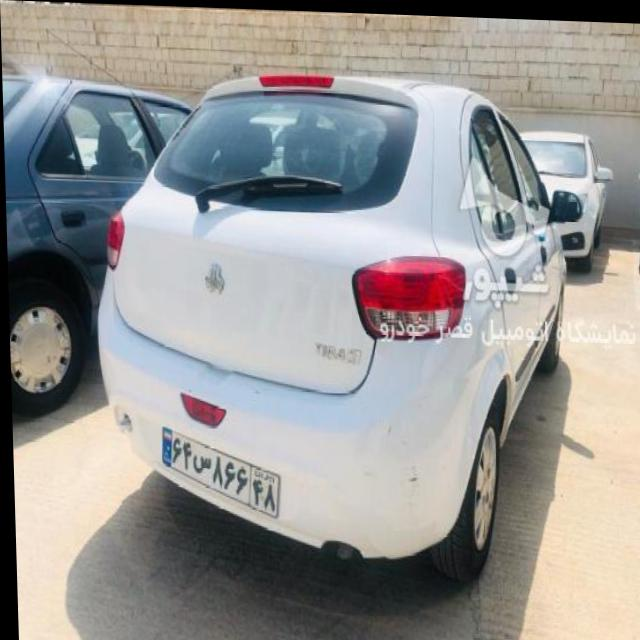licence: (158, 423, 280, 514)
